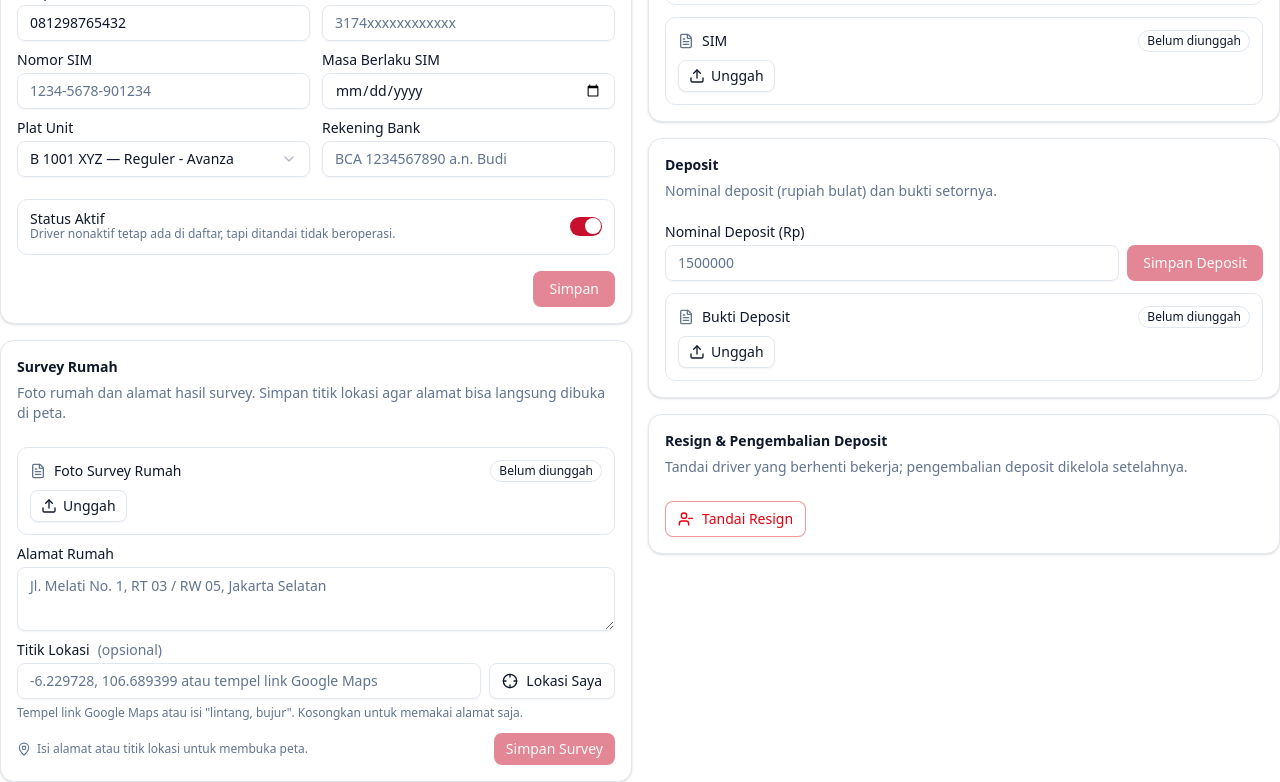
Test: Halaman edit driver — survey rumah › refuses to save an unreadable pin
(page scrolled)
In the field labelled "Titik Lokasi (opsional)": coordinates (249, 680) [17,662,481,698], type "dekat masjid"
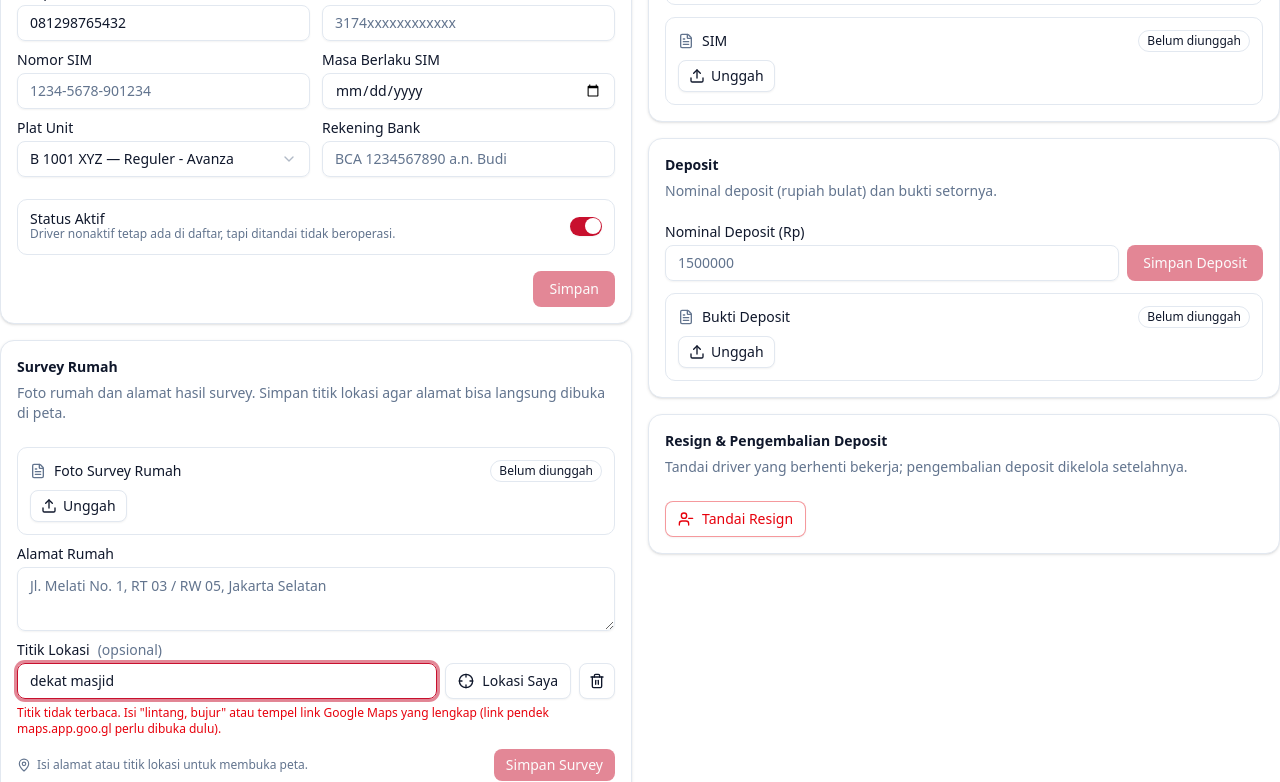
Expected: the button "Simpan Survey" is disabled, [494,748,615,780]
Result: the text "Titik tidak terbaca" is shown at [17,704,549,736]
